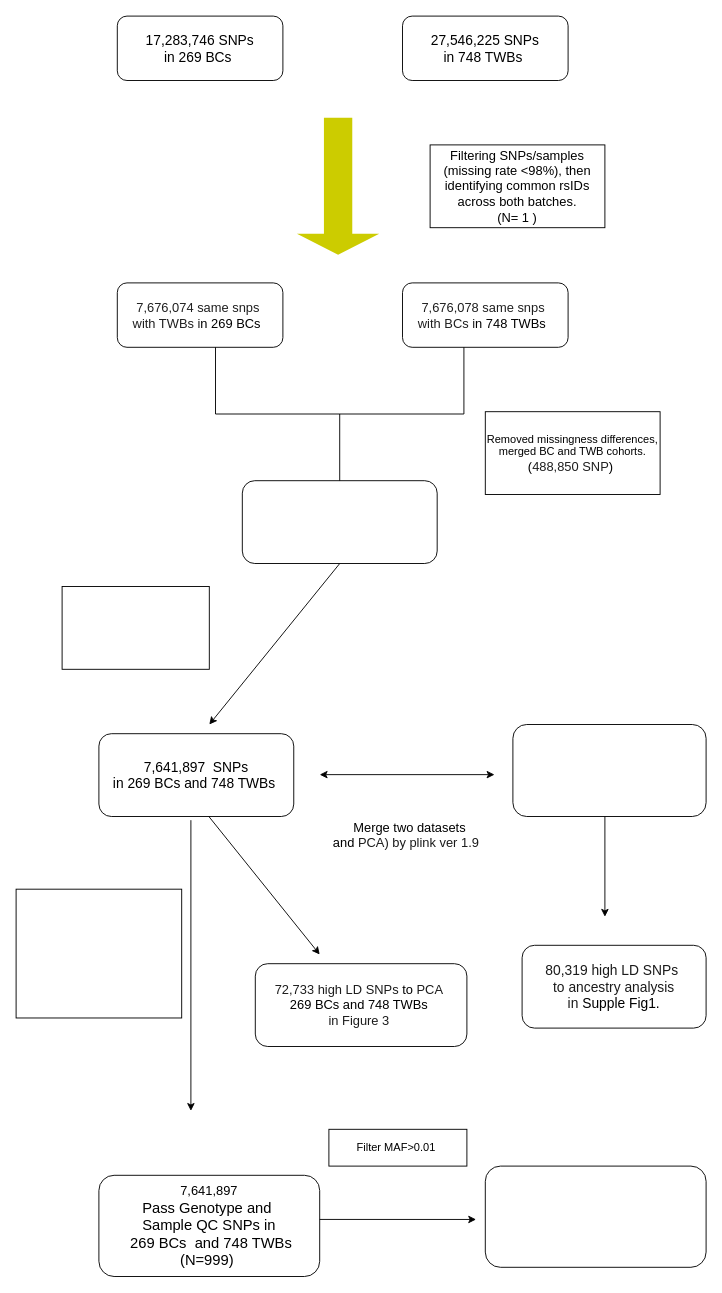
The diagram is 722 pixels wide and 1293 high, and some of its shapes have lost their labels. The shapes that lost their labels are listed below. From the top down, each one's box as (x1, y1, x2, y2) in pixels, then its label:
(241, 480, 437, 564): 15,813,783 SNPs in 269 BCs and 748 TWBs
(61, 586, 209, 669): Removed duplicate SNPs ,un-mapped , HWE <1e-10 ,and call rate > 98%
(512, 724, 706, 816): 114,859,274 SNPs in 1000 DRAGEN ver4.2.7
(15, 888, 182, 1018): Removed ±6 SD in HET ,IBD >0.125 sample and have BRCA variant BC patient (N=20)
(484, 1165, 706, 1267): Finally 3,690,681 SNPs to association test in Figure 3
